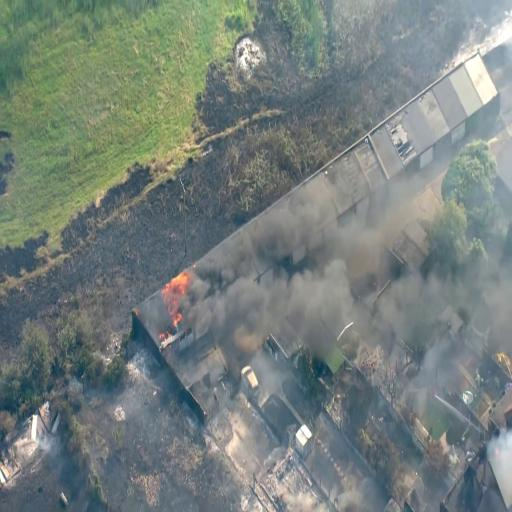fire: (196, 267, 340, 355), (154, 276, 194, 330)
